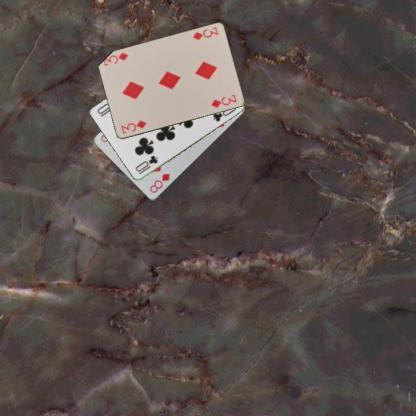10c: (133, 153, 159, 176)
3d: (190, 24, 219, 42), (118, 118, 147, 135)
8d: (147, 171, 170, 195)
